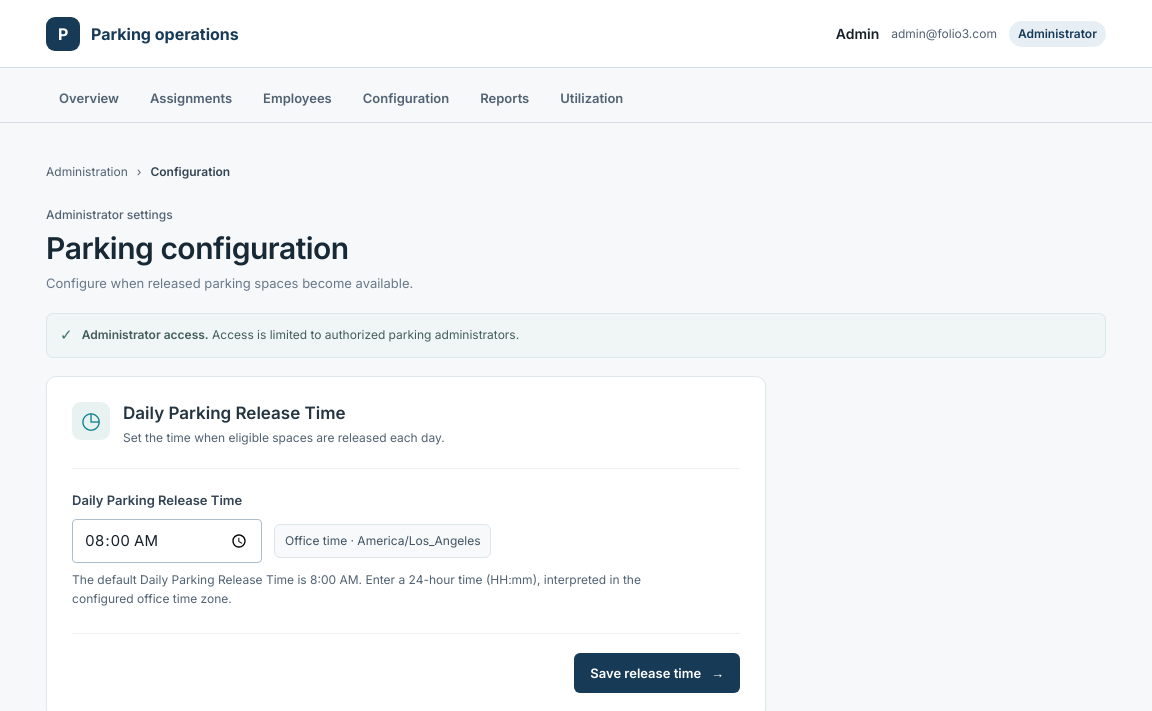
Test: [AC-7] confirms before updating configuration, shows office-time success, and preserves input when saving fails
Replace the text in the time field labelled "Daily Parking Release Time" with "09:00": (167,541) [72,519,262,563]
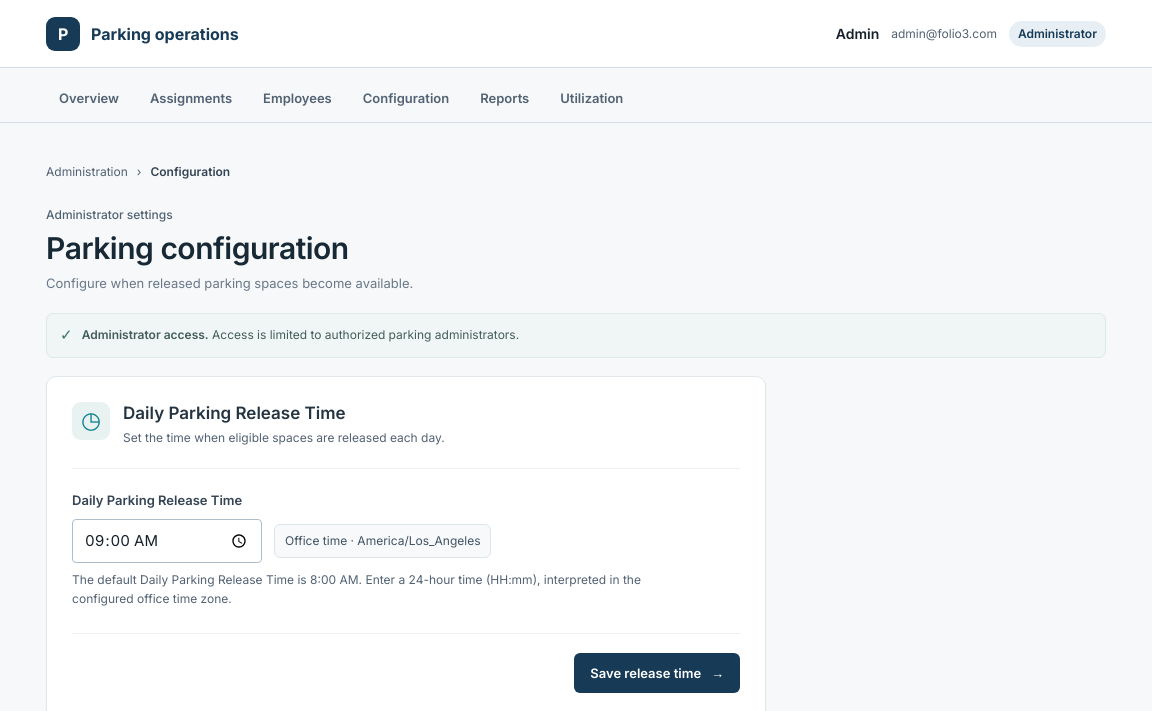
Click the button "Save release time →": (657,674) [574,654,740,694]
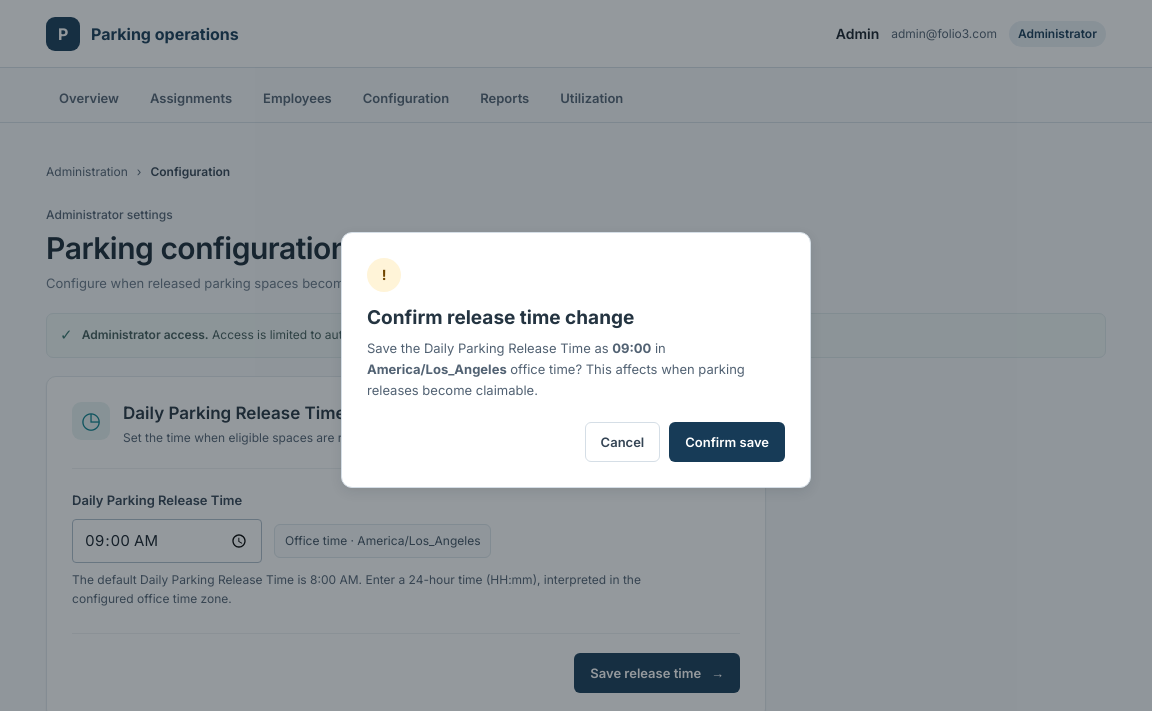
expect the dialog shows "09:00": met, box [612,340,651,356]
Click the button "Confirm save": (727,442) [669,422,785,462]
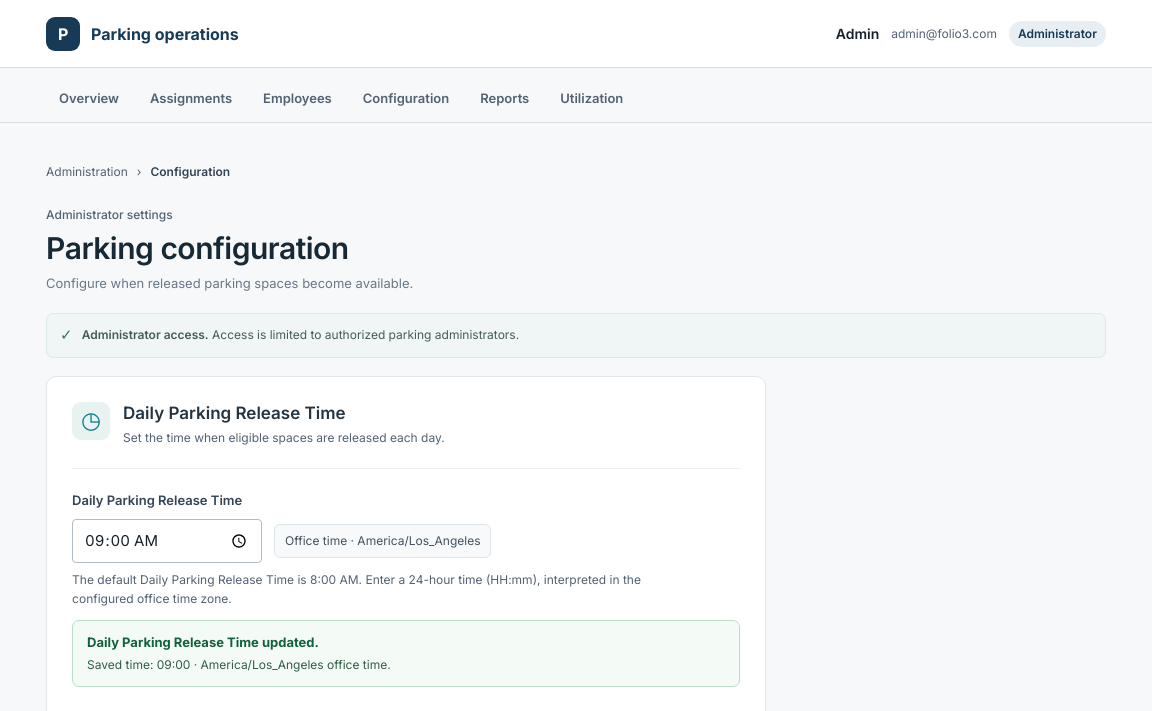
expect the message shows "Saved time: 09:00 · America/Los_Angeles office time": met, box [72,620,740,687]
Replace the text in the time field labelled "Daily Parking Release Time" with "10:00": (167,541) [72,519,262,563]
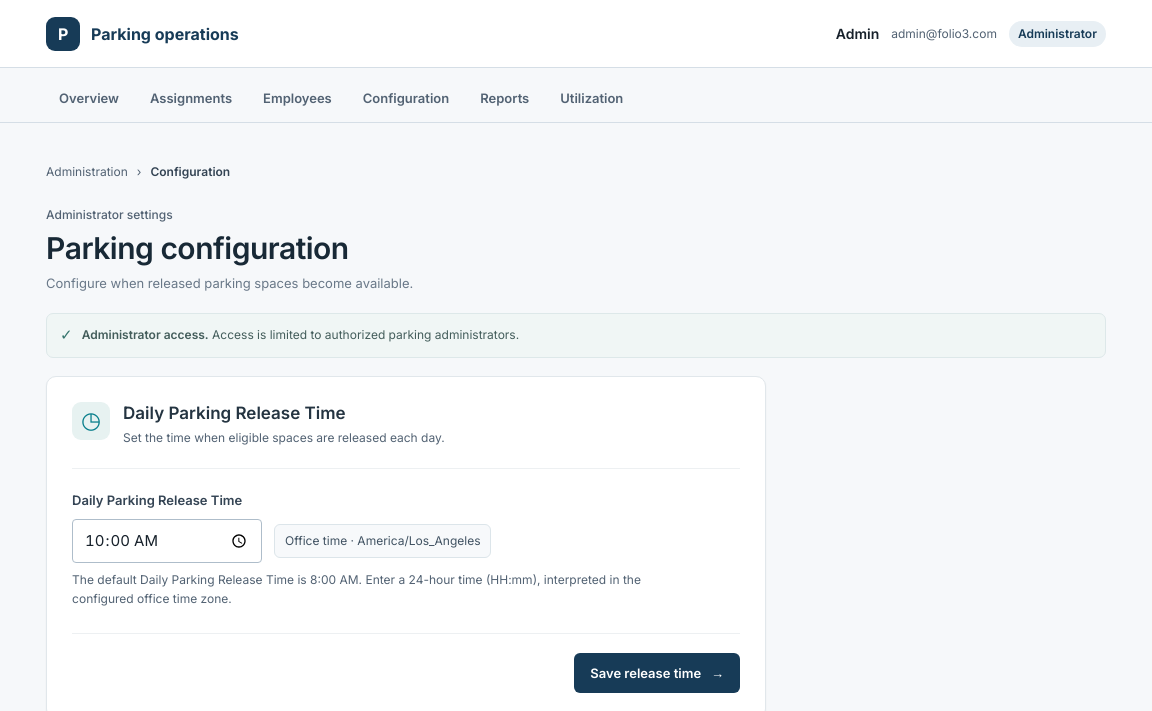
Click the button "Save release time →": (657,674) [574,654,740,694]
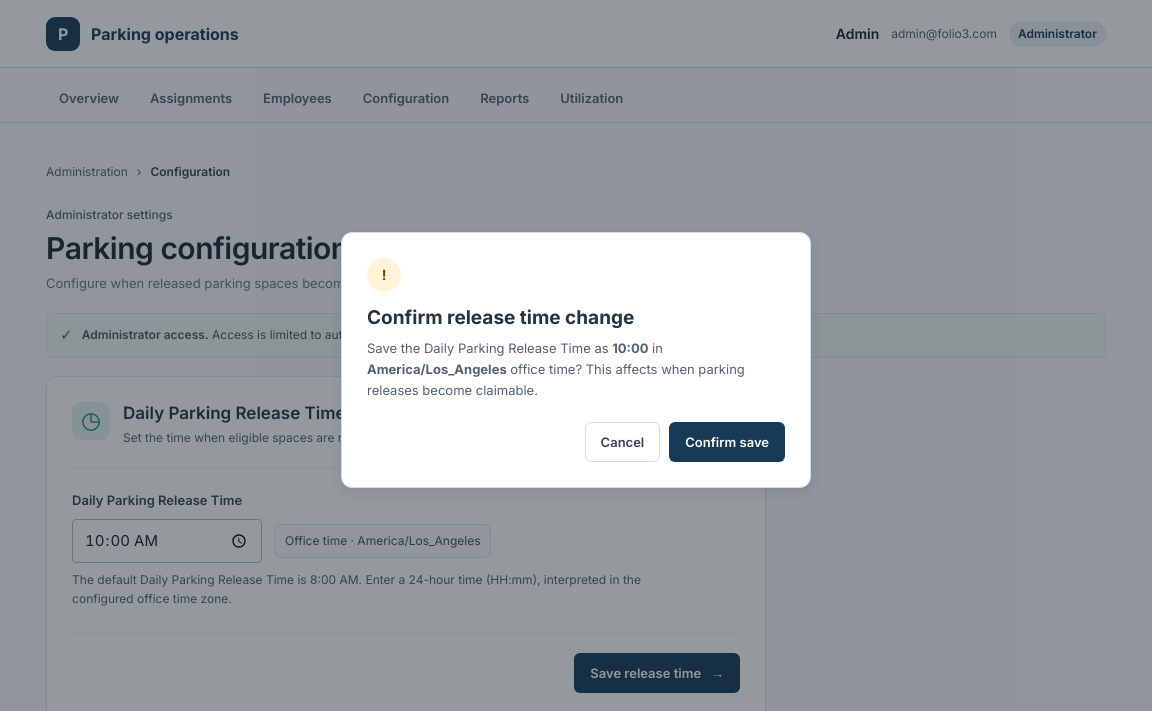
Click the button "Confirm save": (727,442) [669,422,785,462]
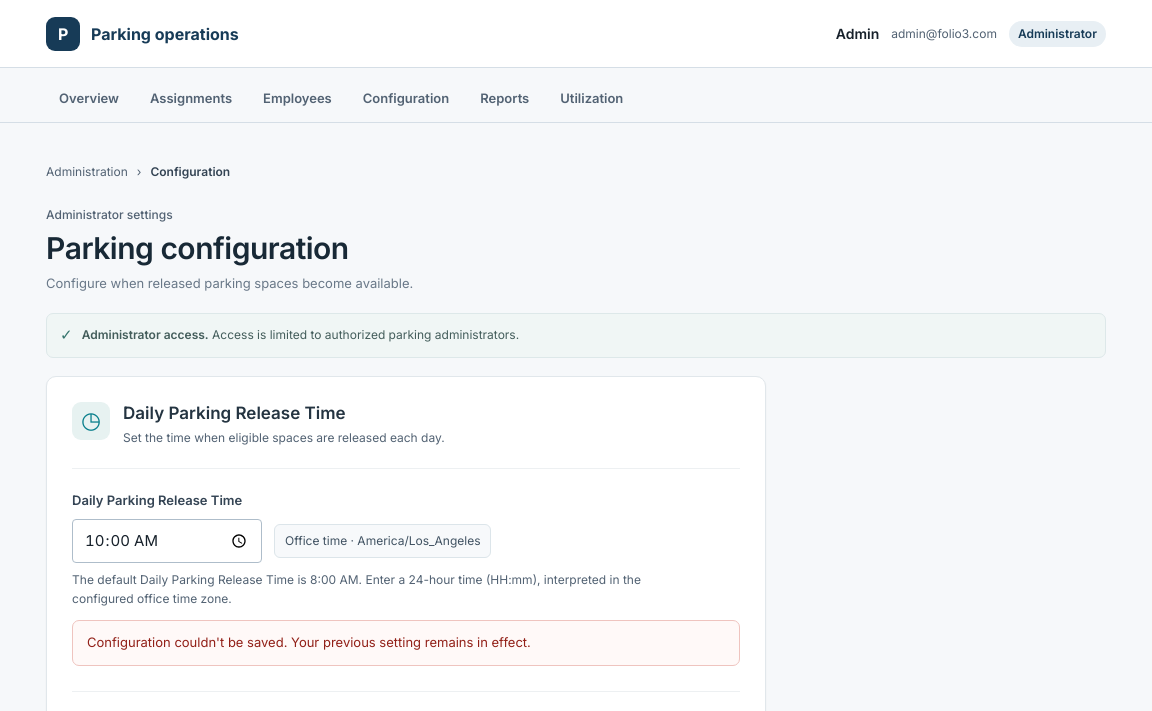
expect the text "Daily Parking Release Time updated." is not shown: met
expect the message reads "Configuration couldn't be saved. Your previous setting remains in effect.": met, box [87,634,531,650]
